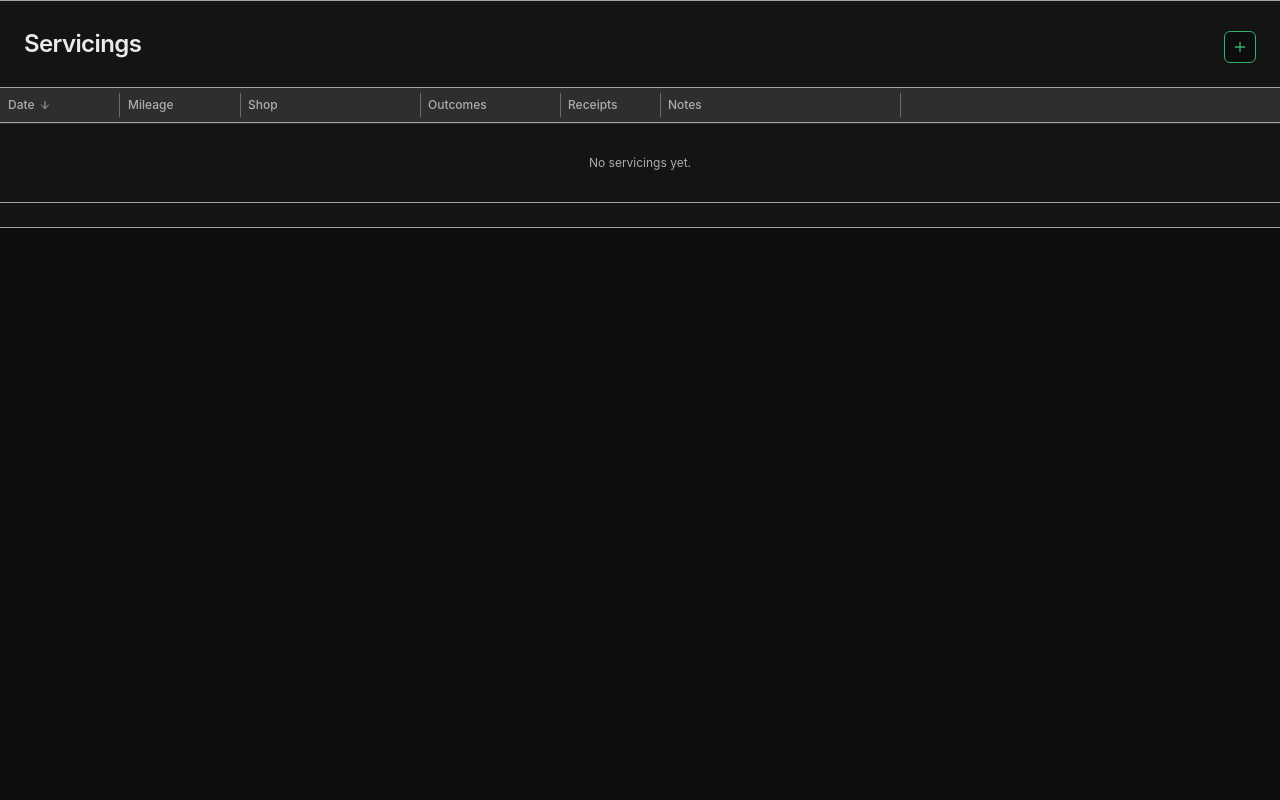
Test: GarageServicingsGrid servicing dialog › keeps the selected date when the user chooses the same day again
Later steps or results of the test are not shown.
Click the button named "Add servicing" at (1240, 47), box [1224,31,1256,63]
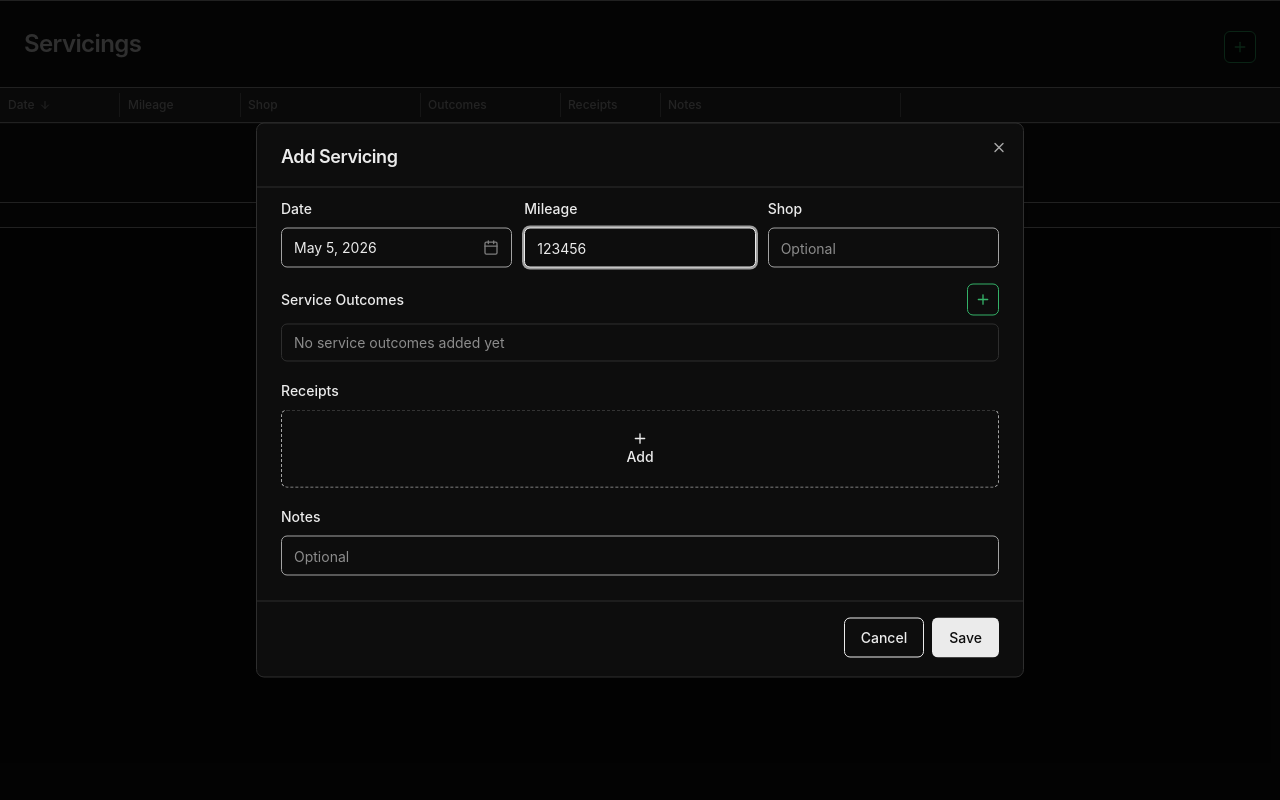
Expected: the dialog is shown, [256,122,1024,678]
Expected: the button with id "garage-servicing-date" is shown
Click the button with id "garage-servicing-date" at (397, 248), box [281,228,512,268]
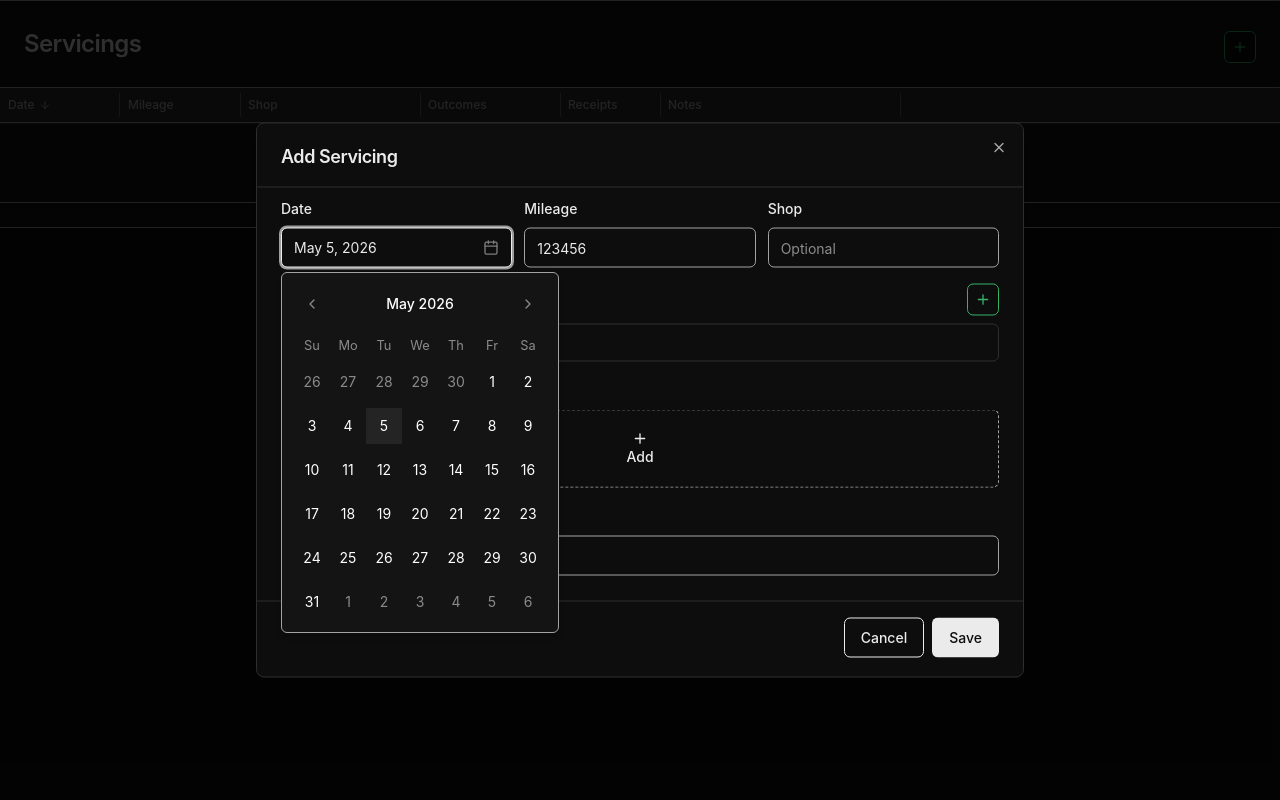
Expected: the cell named "day" is shown, [366,408,402,444]
